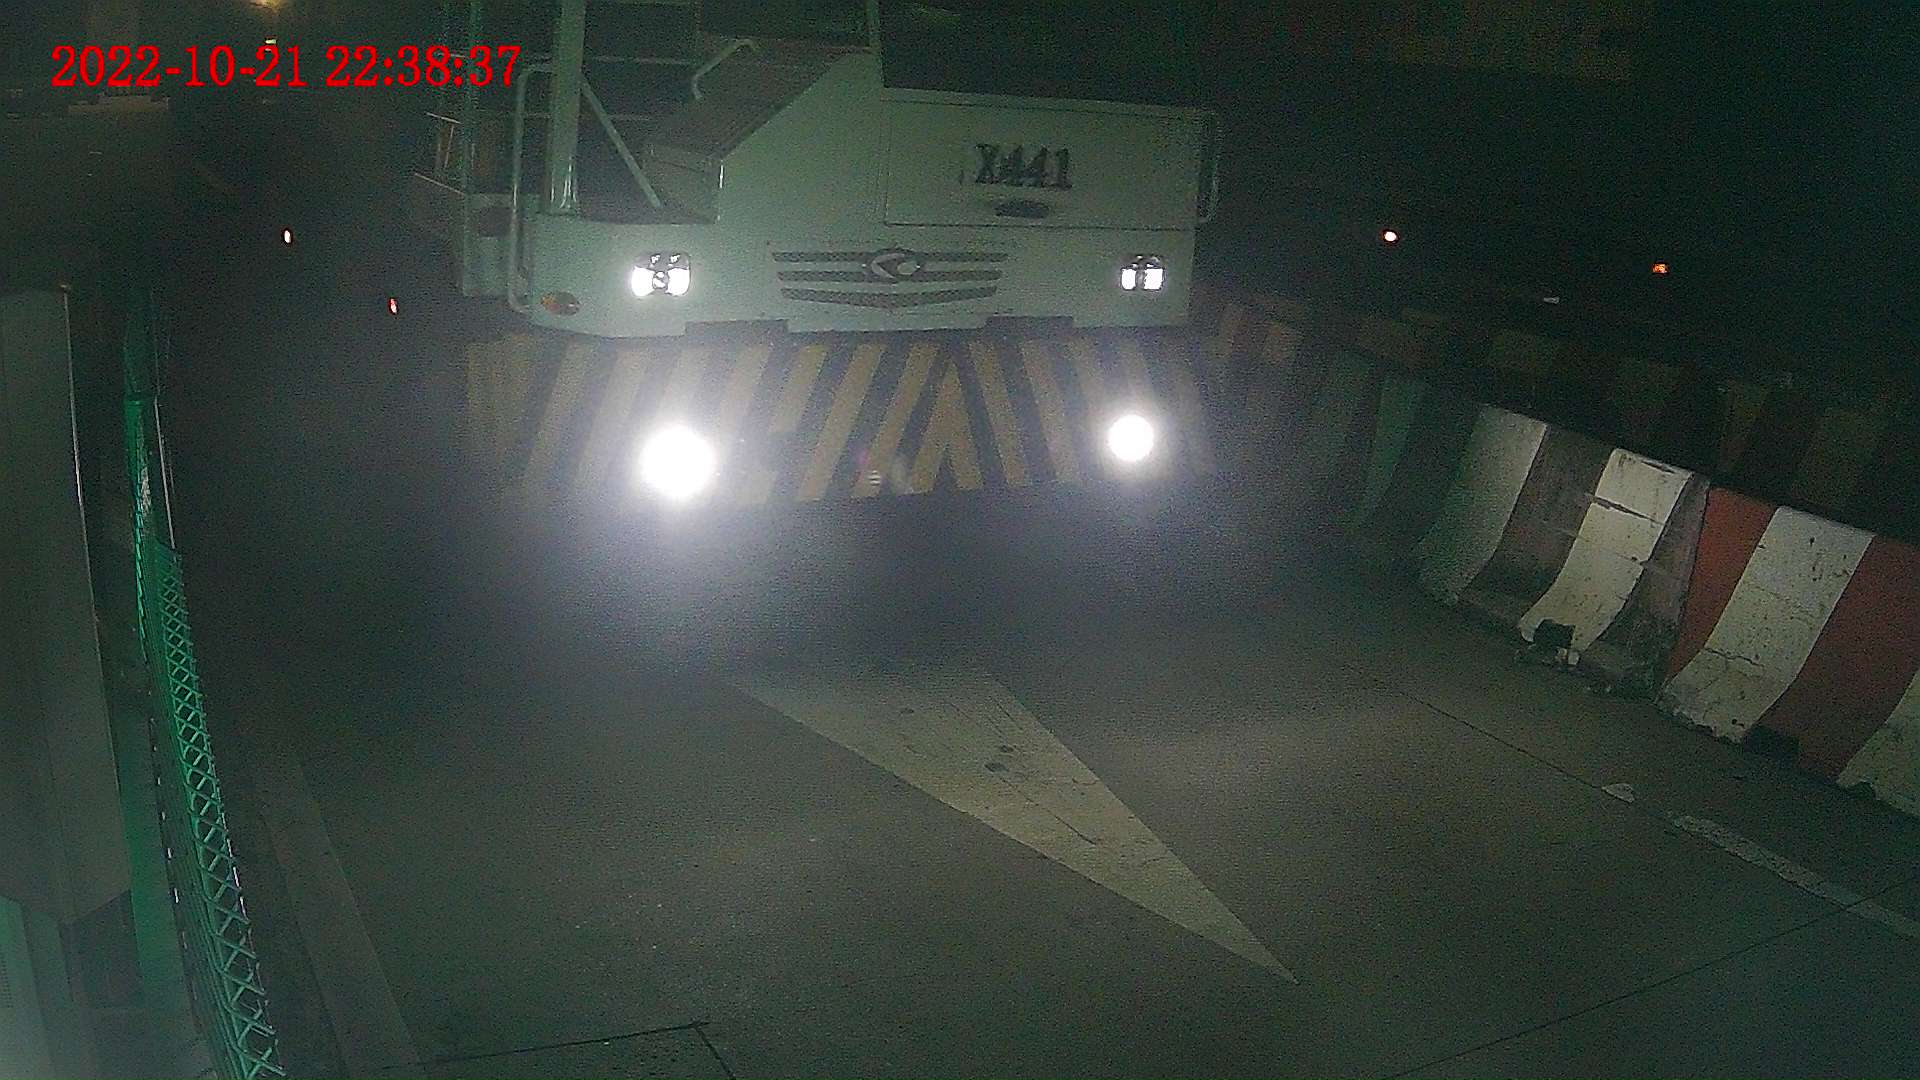head: (435, 1, 1224, 568)
